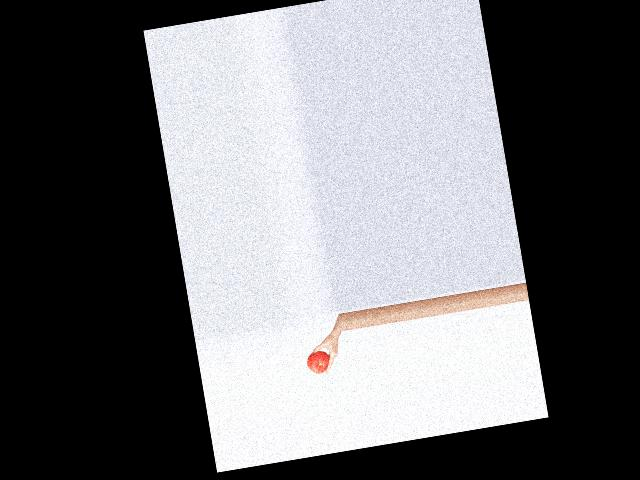tomato: (305, 350, 331, 375)
